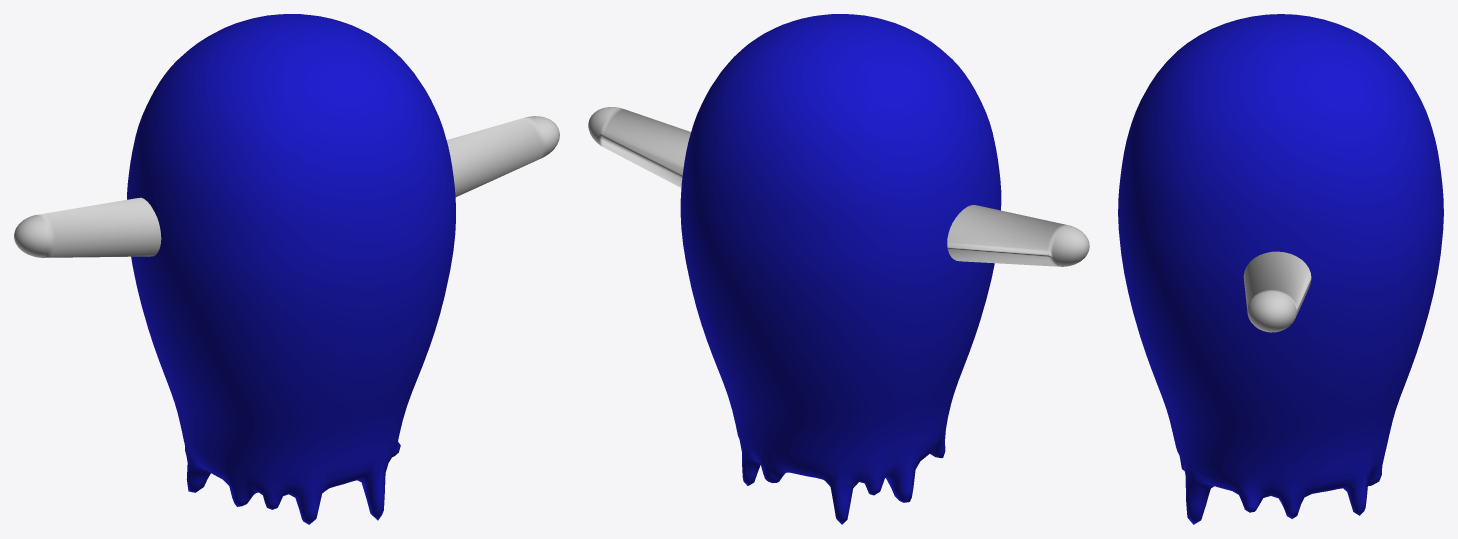
Rendered from beforeThrow_000017.obj.
3 renders of one model, left to right at view 1: azimuth 30°, elevation 25°; view 2: azimuth 150°, elevation 25°; view 3: azimuth 270°, elevation 25°, orthographic. The views are drawn at different scales.
Parts seen in each view (by area): view 1: Cube, Sphere.001, Sphere; view 2: Cube, Sphere.001, Sphere; view 3: Cube, Sphere.
Part boxes in pixels (x1=…): Cube: x1=127, y1=14, x2=455, y2=524; Sphere.001: x1=14, y1=197, x2=161, y2=257; Sphere: x1=446, y1=116, x2=559, y2=196; Cube: x1=680, y1=14, x2=1001, y2=524; Sphere.001: x1=947, y1=205, x2=1089, y2=266; Sphere: x1=588, y1=107, x2=690, y2=187; Cube: x1=1118, y1=14, x2=1443, y2=524; Sphere: x1=1243, y1=251, x2=1311, y2=332.
Size of the model in its own units: 0.5359 by 0.4582 by 0.2859.
